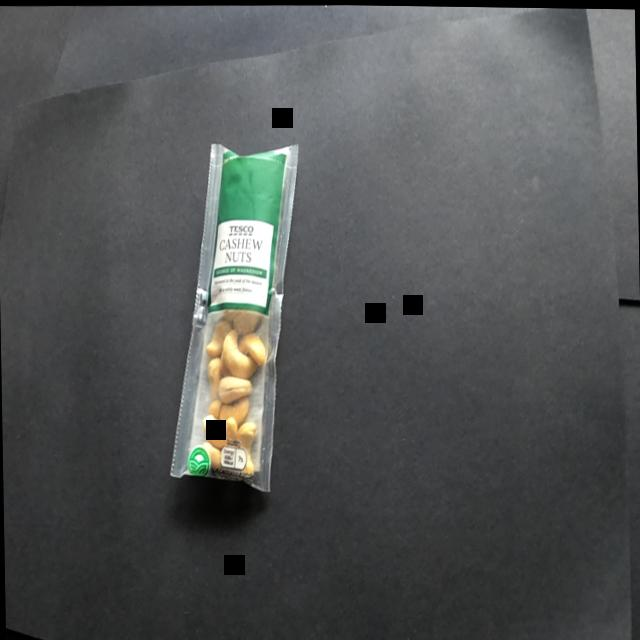Cashewnut: (157, 128, 317, 512)
